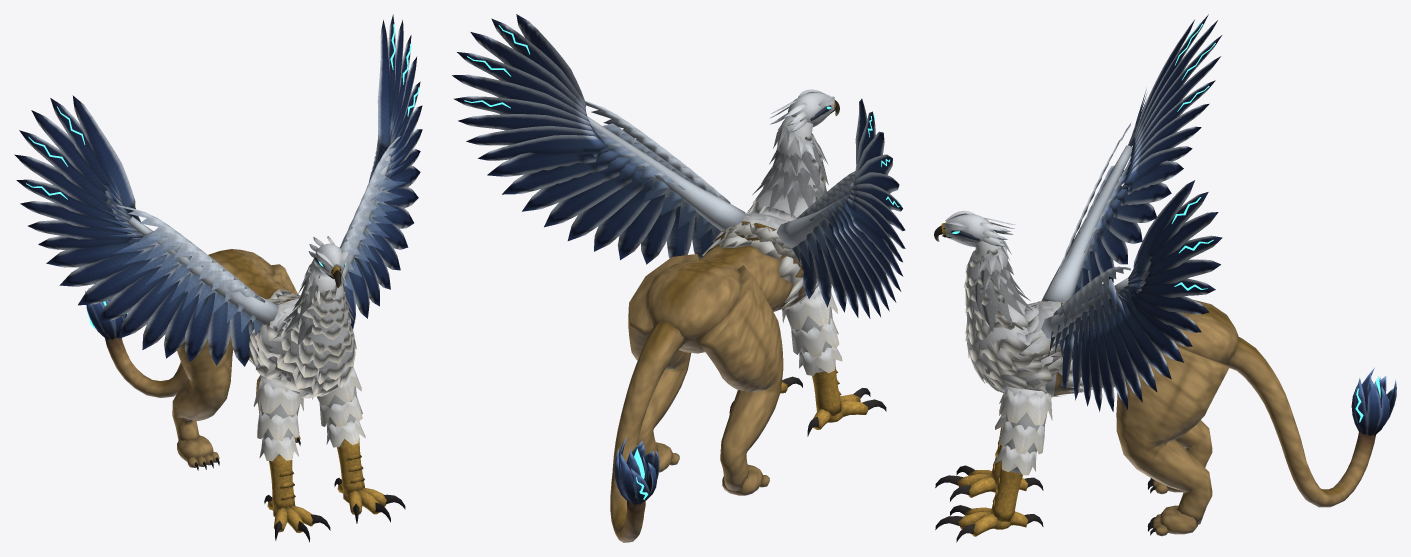
File: griffin.fbx
The picture shows the model from 3 angles, left to right: view 1: azimuth 30°, elevation 25°; view 2: azimuth 150°, elevation 25°; view 3: azimuth 270°, elevation 25°; orthographic projection. The views are drawn at different scales.
Visible parts, largest first — view 1: Griffin_Body, Griffin_GLOW; view 2: Griffin_Body, Griffin_GLOW; view 3: Griffin_Body, Griffin_GLOW.
Boxes of the visible parts, <box> form: Griffin_Body: <box>14,14,422,542</box>; Griffin_GLOW: <box>26,24,419,328</box>; Griffin_Body: <box>452,14,905,542</box>; Griffin_GLOW: <box>464,25,902,499</box>; Griffin_Body: <box>934,14,1396,542</box>; Griffin_GLOW: <box>952,22,1380,422</box>.
Bounding box in the file's own units: 10.39 × 9.48 × 9.7.
Materials: 2 (1 with a texture image).
